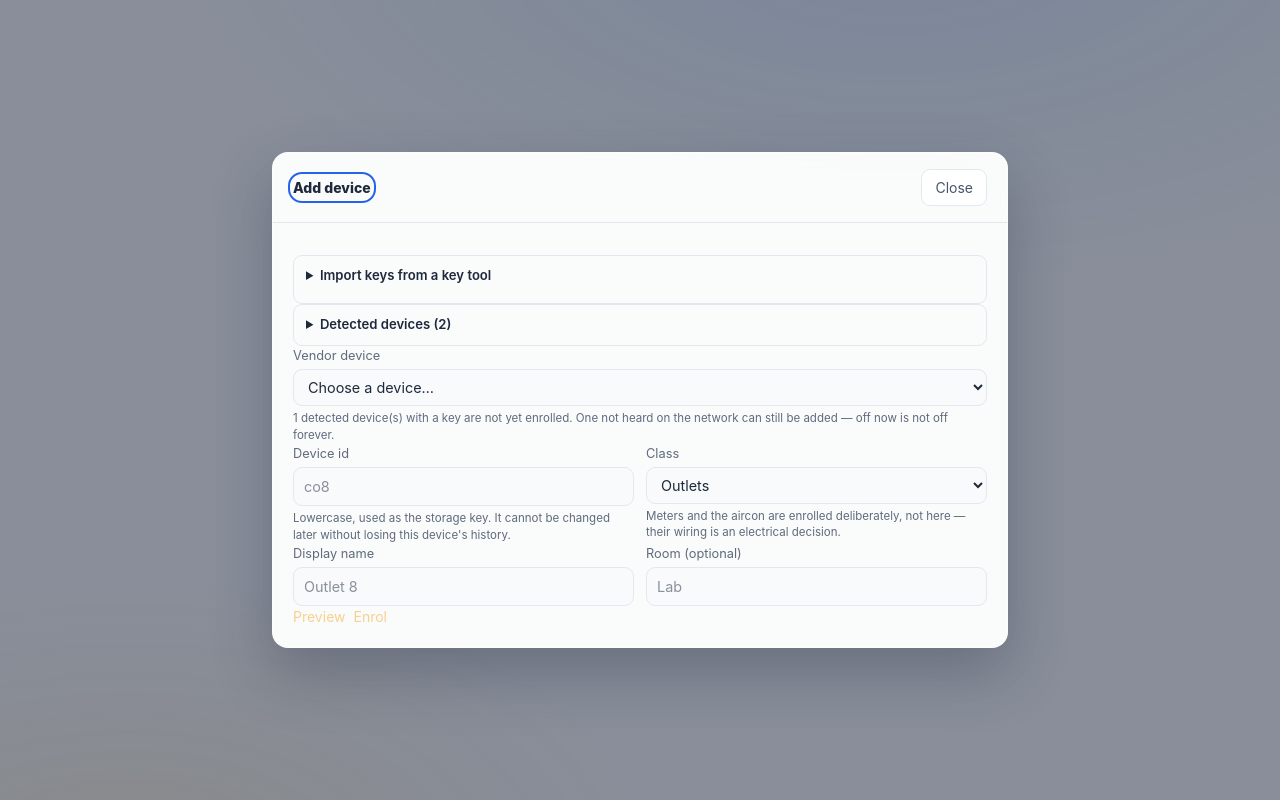
Test: EnrollWizard — import keys › shows a refused import with its reasons, and keeps the paste so it can be fixed
Click the heading "Import keys from a key tool".
click(406, 275)  # box [320,267,491,283]
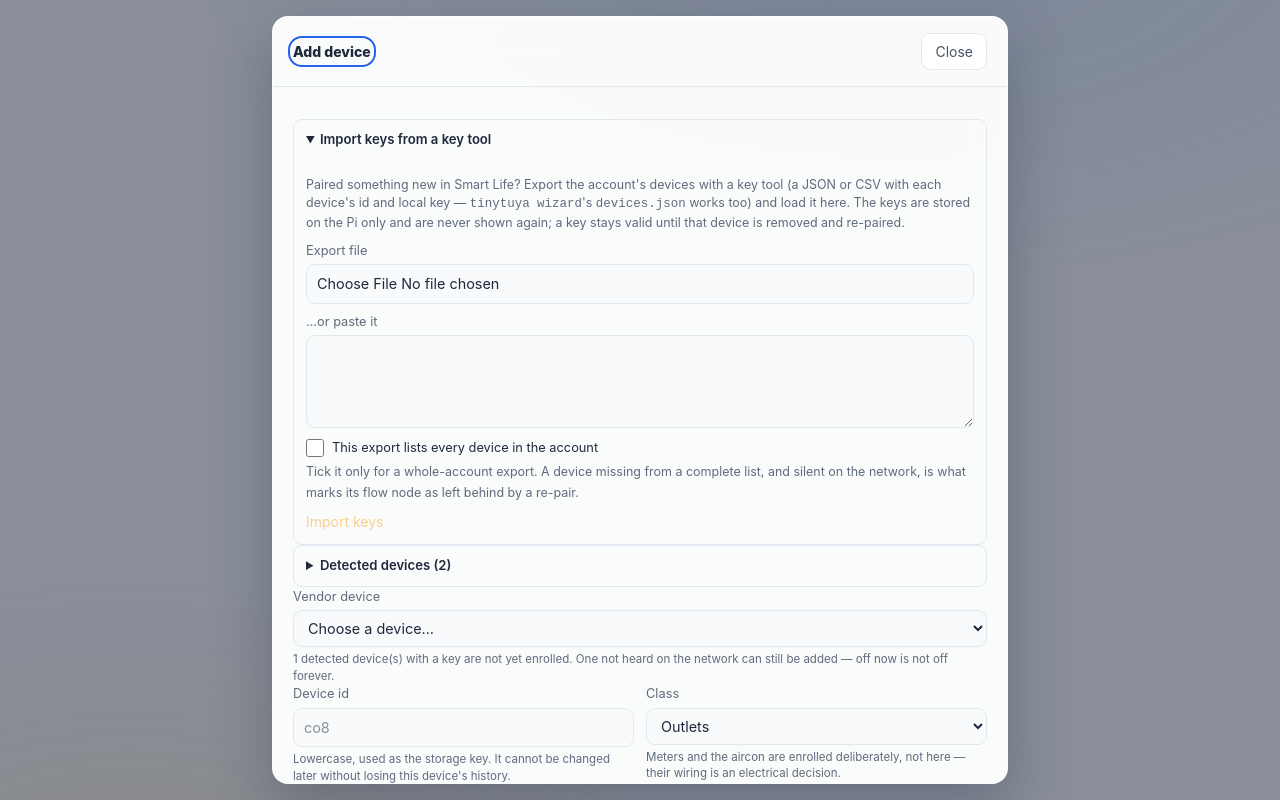
Type "hello" into the text box labelled "…or paste it".
click(640, 381); type("hello")  # box [306,335,974,428]
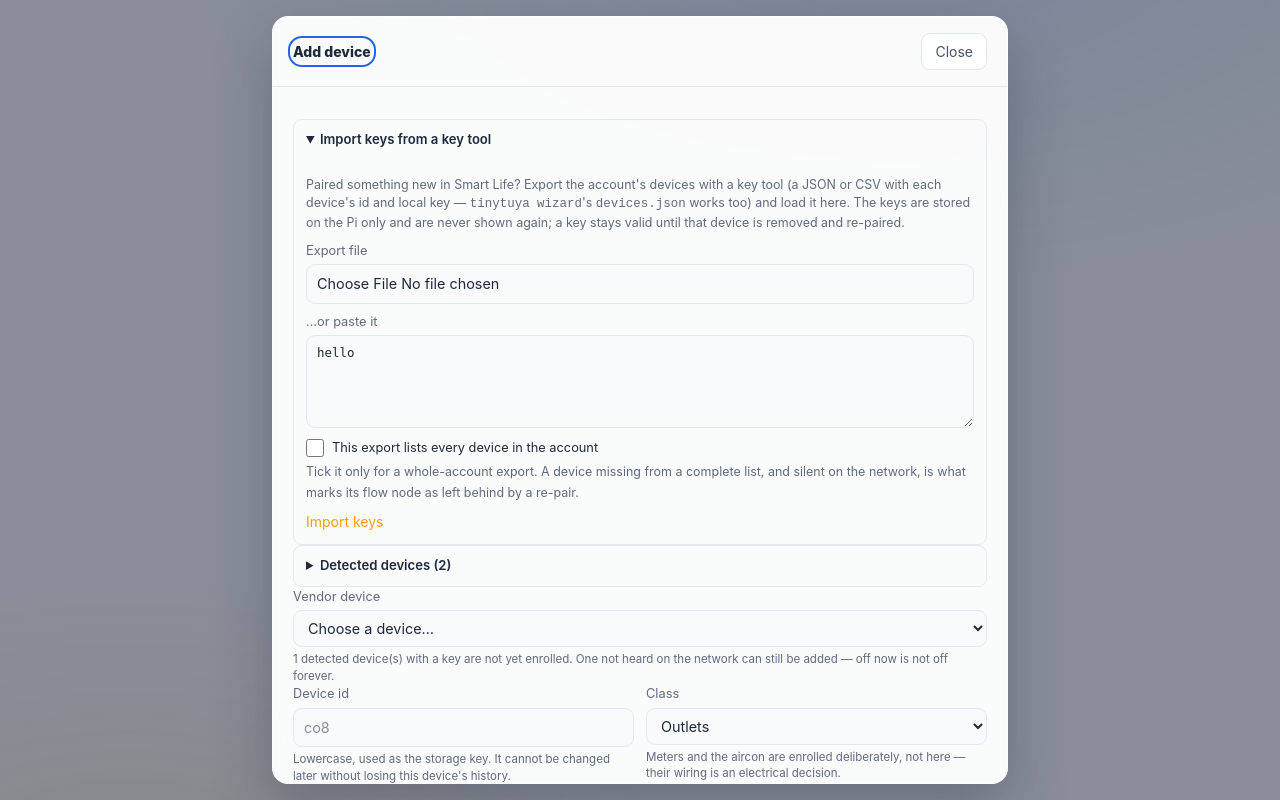
Click the button "Import keys".
click(345, 522)  # box [306,511,384,532]
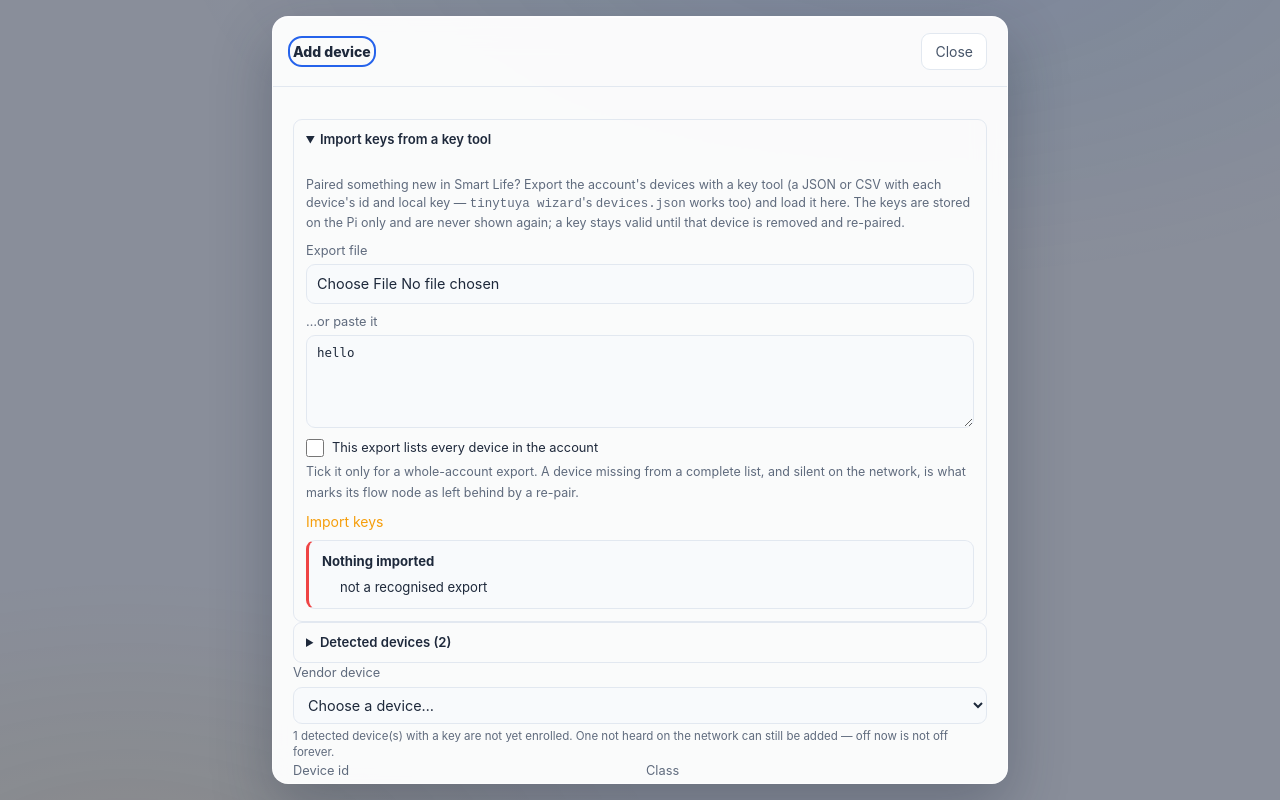
expect the message shows "not a recognised export": met, box [340,579,487,595]
